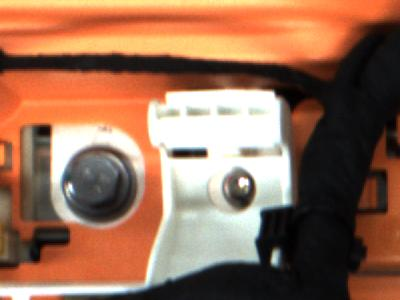nut_b: (58, 140, 145, 227)
